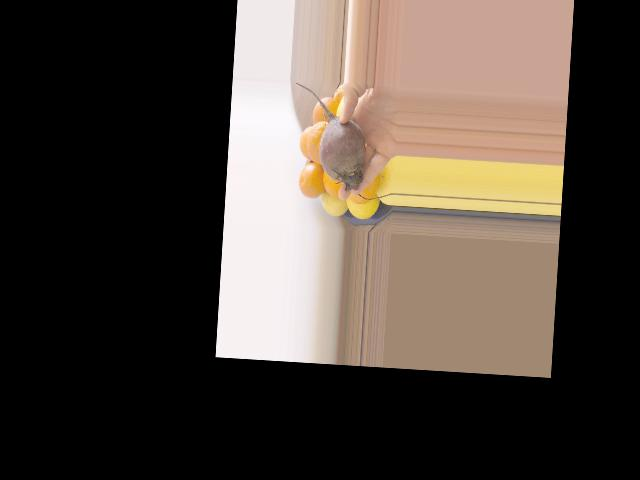beet: (290, 83, 369, 190)
